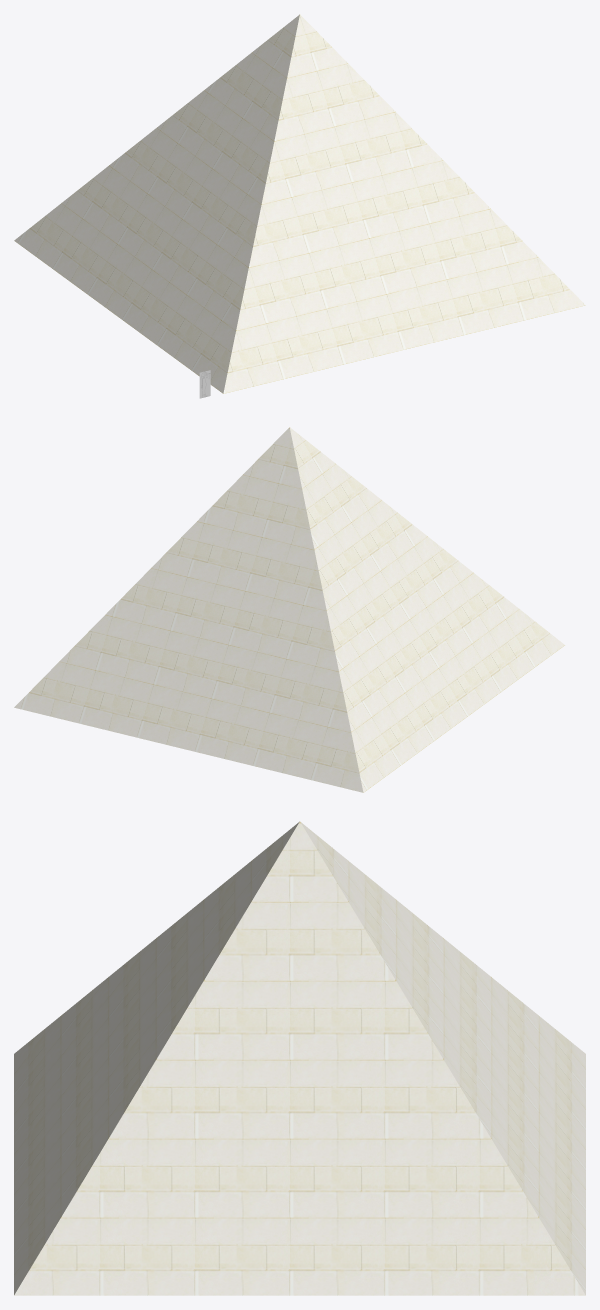
The model's file is Sesheshet.glb.
3 renders of one model, top to bottom at view 1: azimuth 30°, elevation 25°; view 2: azimuth 150°, elevation 25°; view 3: azimuth 270°, elevation 25°, orthographic. The views are drawn at different scales.
Parts seen in each view (by area): view 1: Mesh1 Model; view 2: Mesh1 Model; view 3: Mesh1 Model.
Part boxes in pixels (x1=…): Mesh1 Model: x1=14, y1=14, x2=585, y2=393; Mesh1 Model: x1=14, y1=427, x2=564, y2=792; Mesh1 Model: x1=14, y1=821, x2=585, y2=1295.
Size of the model in its own units: 23.37 by 15 by 22.
Materials: 2 (2 with a texture image).
